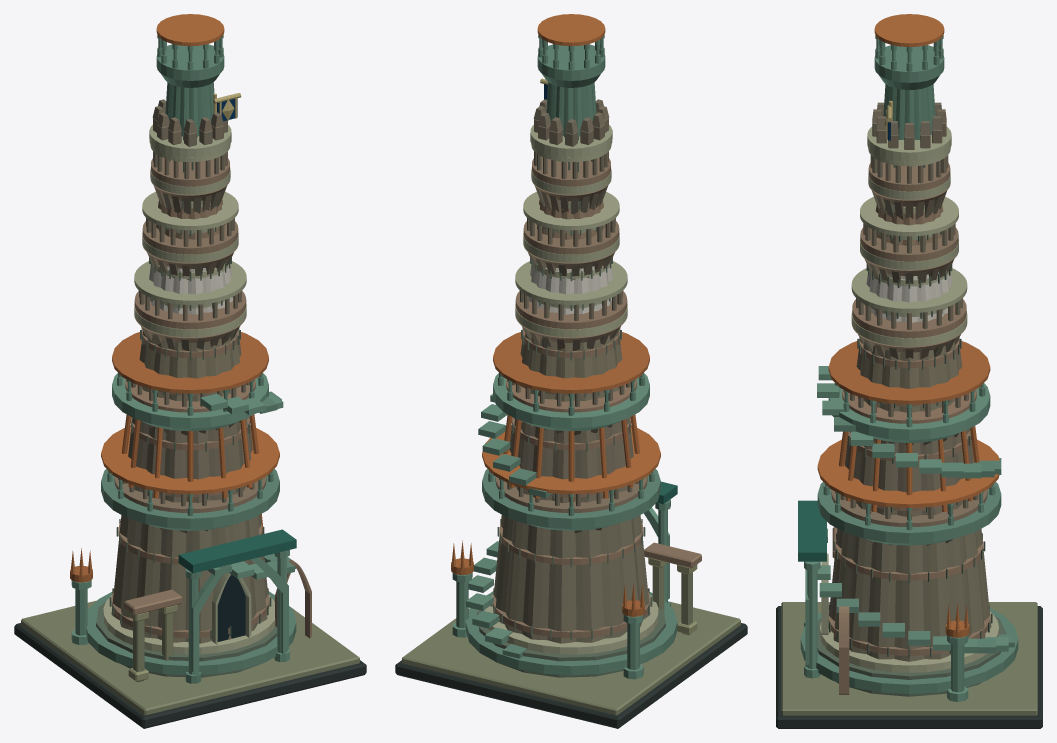
3 views of the same model, side by side, from view 1: azimuth 30°, elevation 25°; view 2: azimuth 150°, elevation 25°; view 3: azimuth 270°, elevation 25° (orthographic). The views are drawn at different scales.
Parts seen in each view (by area): view 1: archer_tower_L9_0, archer_tower_L9_1; view 2: archer_tower_L9_0, archer_tower_L9_1; view 3: archer_tower_L9_0, archer_tower_L9_1.
Part boxes in pixels (x1=…): archer_tower_L9_0: x1=14, y1=35, x2=366, y2=728; archer_tower_L9_1: x1=70, y1=14, x2=279, y2=582; archer_tower_L9_0: x1=395, y1=35, x2=747, y2=728; archer_tower_L9_1: x1=451, y1=14, x2=660, y2=616; archer_tower_L9_0: x1=776, y1=35, x2=1042, y2=728; archer_tower_L9_1: x1=817, y1=14, x2=999, y2=637.
Size of the model in its own units: 3.6 by 9.6 by 3.6.
